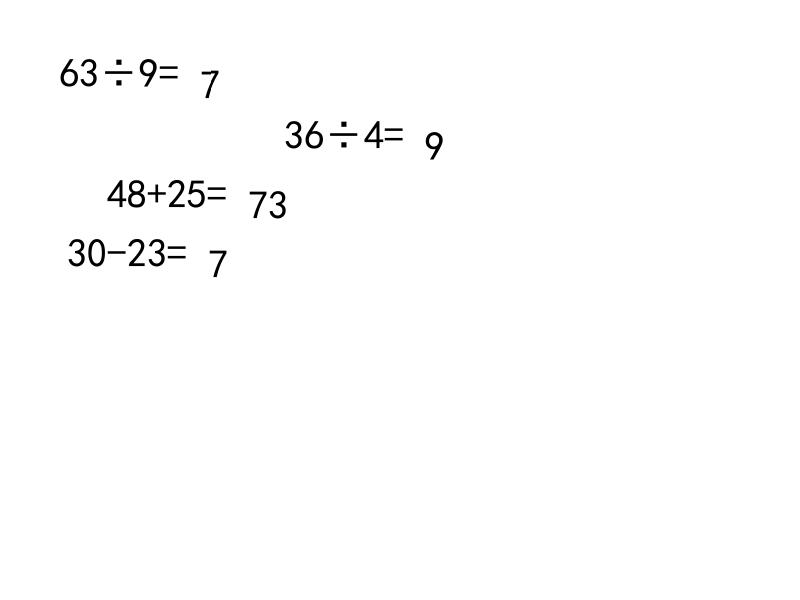+: (147, 173, 167, 202)
-: (107, 232, 127, 262)
0: (87, 232, 107, 262)
2: (127, 232, 147, 262), (167, 173, 187, 202)
3: (67, 232, 87, 262), (147, 232, 167, 262), (79, 52, 99, 81), (284, 114, 304, 143), (257, 173, 277, 202)
4: (364, 114, 384, 143), (107, 173, 127, 202)
5: (187, 173, 207, 202)
6: (59, 52, 79, 81), (304, 114, 324, 143)
7: (197, 232, 217, 262), (189, 52, 209, 81), (237, 173, 257, 202)
8: (127, 173, 147, 202)
9: (139, 52, 159, 81), (414, 114, 434, 143)
=: (167, 232, 187, 262), (159, 52, 179, 81), (384, 114, 404, 143), (207, 173, 227, 202)
÷: (99, 52, 139, 81), (324, 114, 364, 143)
